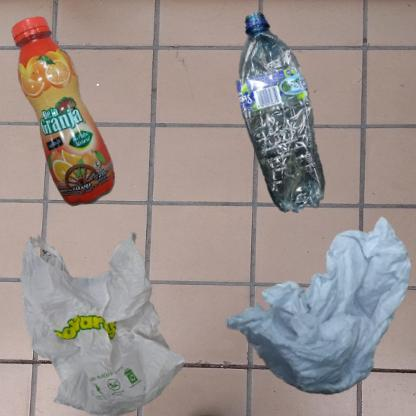bolsa: (10, 213, 201, 416)
botella: (213, 10, 365, 236), (10, 10, 123, 223)
papel: (213, 213, 416, 412)
